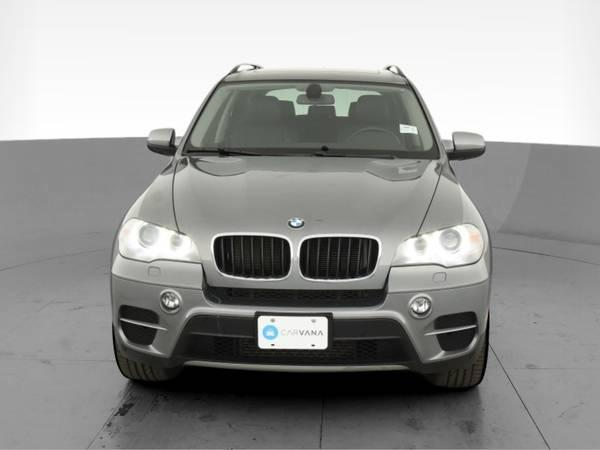Front_Bumper: (110, 255, 494, 383)
Front_Windshield: (177, 79, 447, 159)
Grille: (191, 230, 409, 288)
Hood: (123, 154, 485, 239)
Left_Headlight: (395, 221, 490, 267)
Left_Mirror: (448, 129, 486, 160)
Right_Headlight: (113, 219, 201, 262)
Right_Mirror: (147, 127, 175, 156)
Roof: (217, 64, 411, 86)
